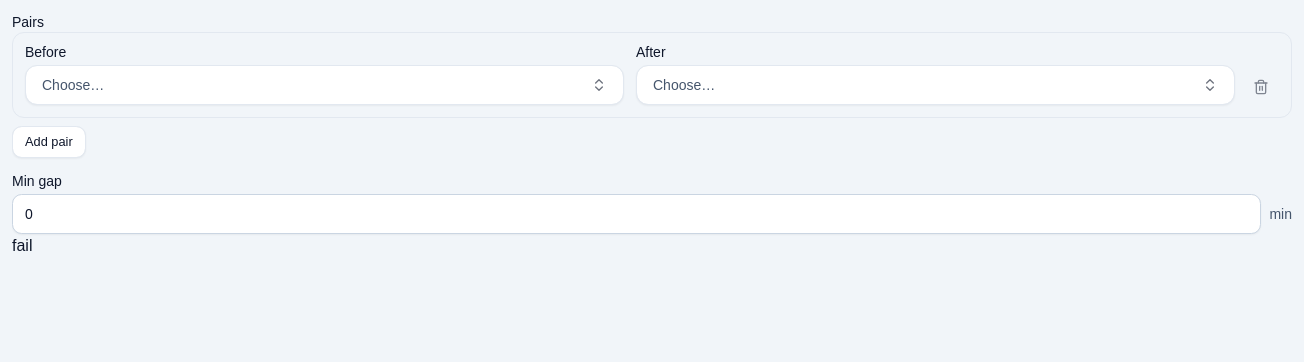
SchemaForm › adds and removes rows in a list of pairs
The image size is (1304, 362).
Expected: the number of buttons named "Before" is 1, [25,65,624,105]
Click the button "Add pair" at (49, 142), box [12,126,86,158]
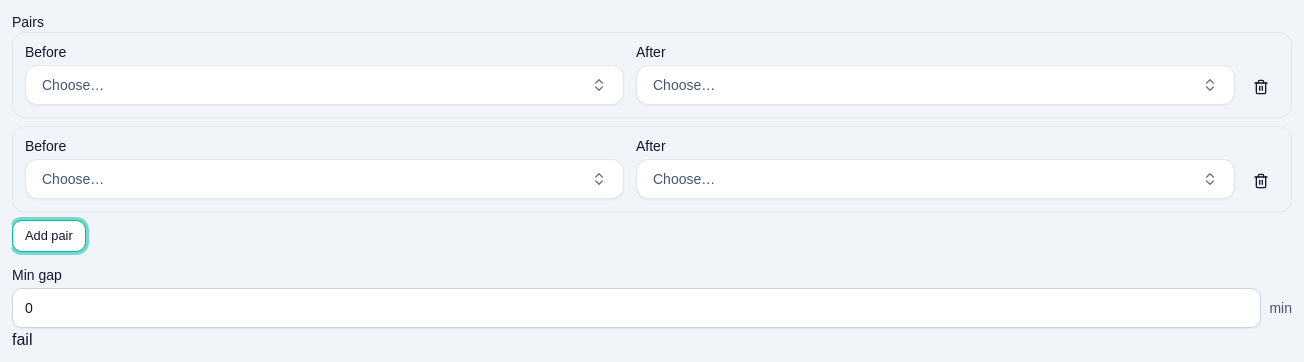
Expected: the number of buttons named "Before" is 2, [25,65,624,105]; [25,159,624,199]
Click the button named "Remove pair 2" at (1261, 181), box [1243,163,1279,199]
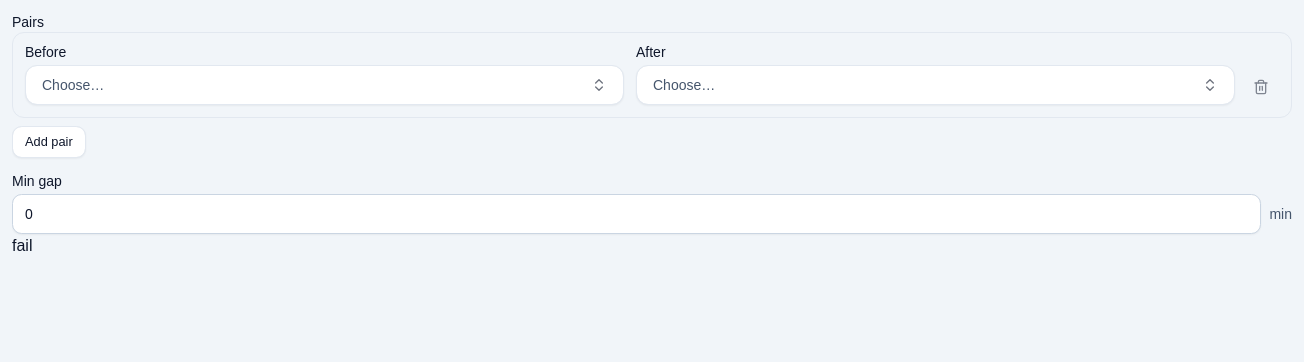
Expected: the number of buttons named "Before" is 1, [25,65,624,105]
